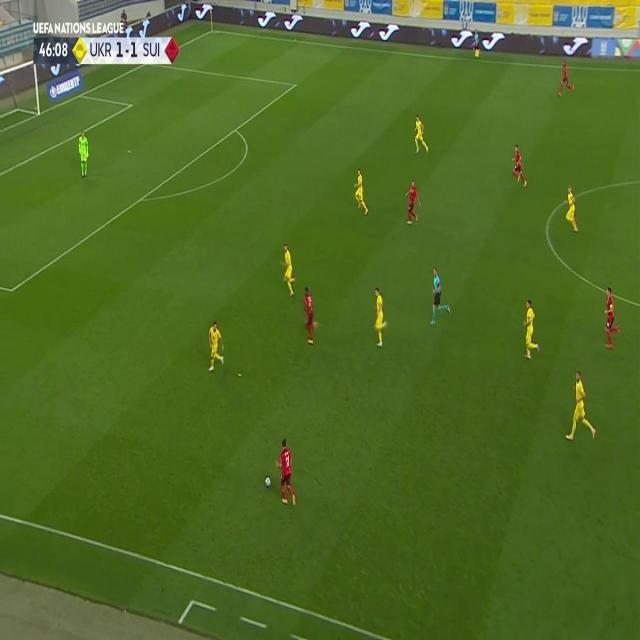ball: (264, 475, 272, 487)
player: (564, 371, 598, 445), (275, 438, 297, 508), (429, 267, 449, 328), (602, 285, 620, 351), (522, 298, 540, 359), (206, 319, 226, 373), (372, 286, 388, 348), (302, 284, 317, 346), (280, 242, 296, 298), (352, 167, 370, 214), (564, 183, 580, 232), (405, 179, 421, 224), (511, 144, 527, 188), (412, 114, 429, 154), (556, 61, 574, 98), (77, 128, 89, 178), (472, 30, 480, 60)
